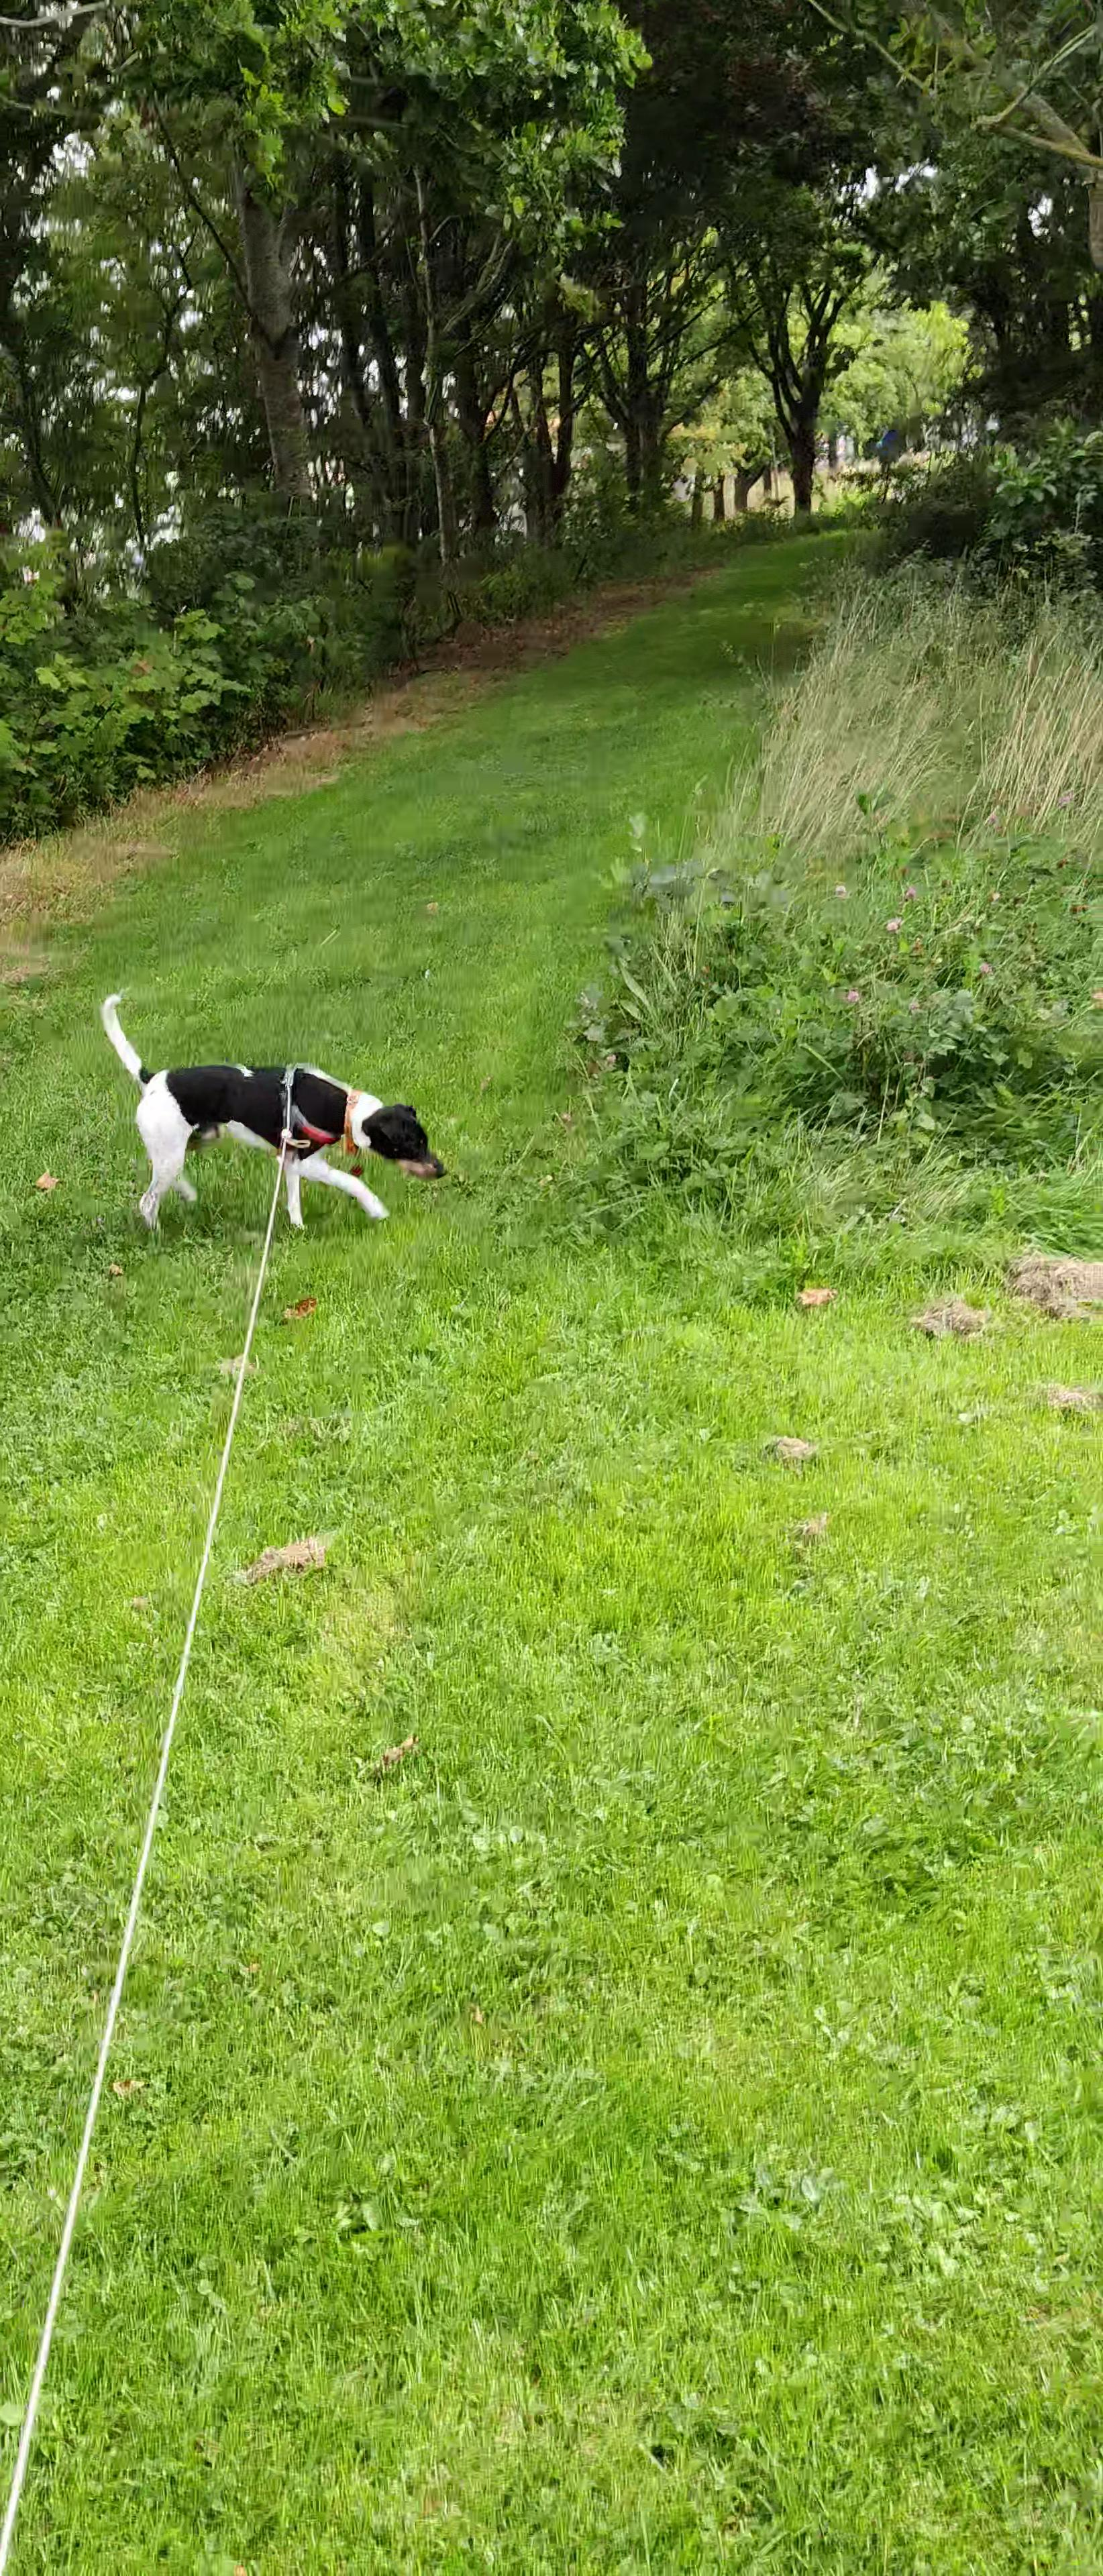Dog: (92, 981, 454, 1234)
